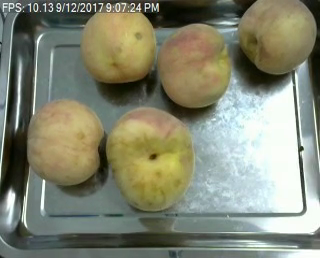Peach: (101, 106, 189, 211), (25, 97, 105, 185), (159, 22, 234, 108), (81, 1, 156, 84), (247, 0, 320, 79)
